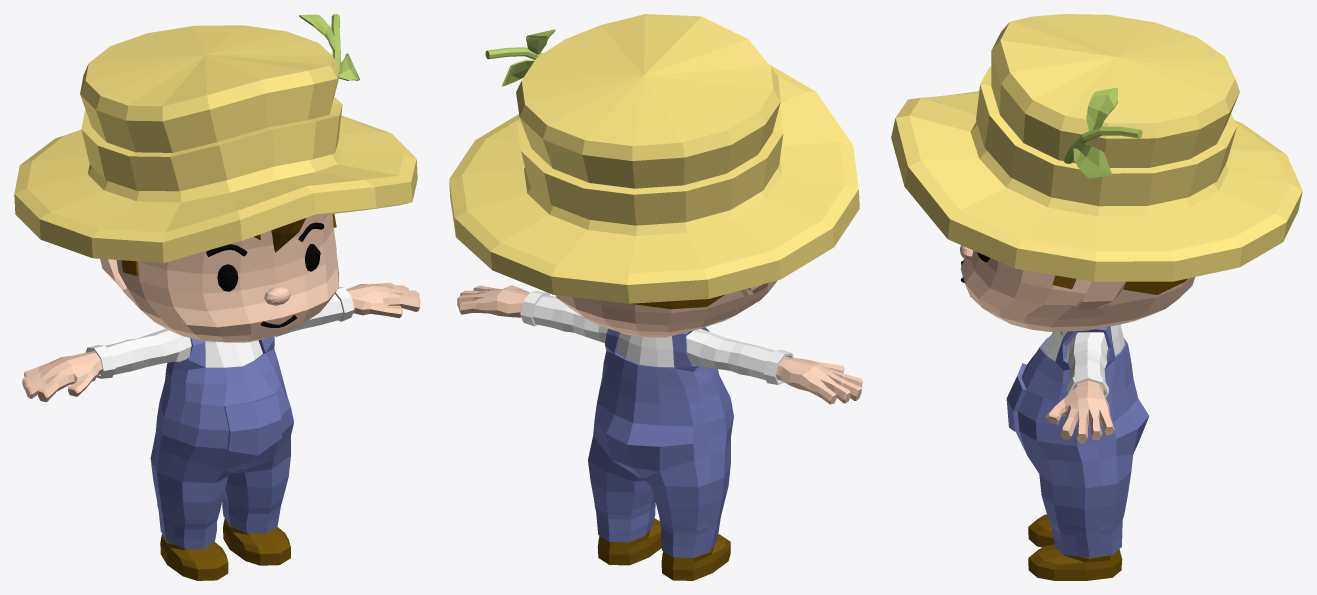
File: MCBoy-Testing.glb
The picture shows the model from 3 angles, left to right: view 1: azimuth 30°, elevation 25°; view 2: azimuth 150°, elevation 25°; view 3: azimuth 270°, elevation 25°; orthographic projection. The views are drawn at different scales.
Size of the model in its own units: 7.75 by 9.53 by 6.92.
